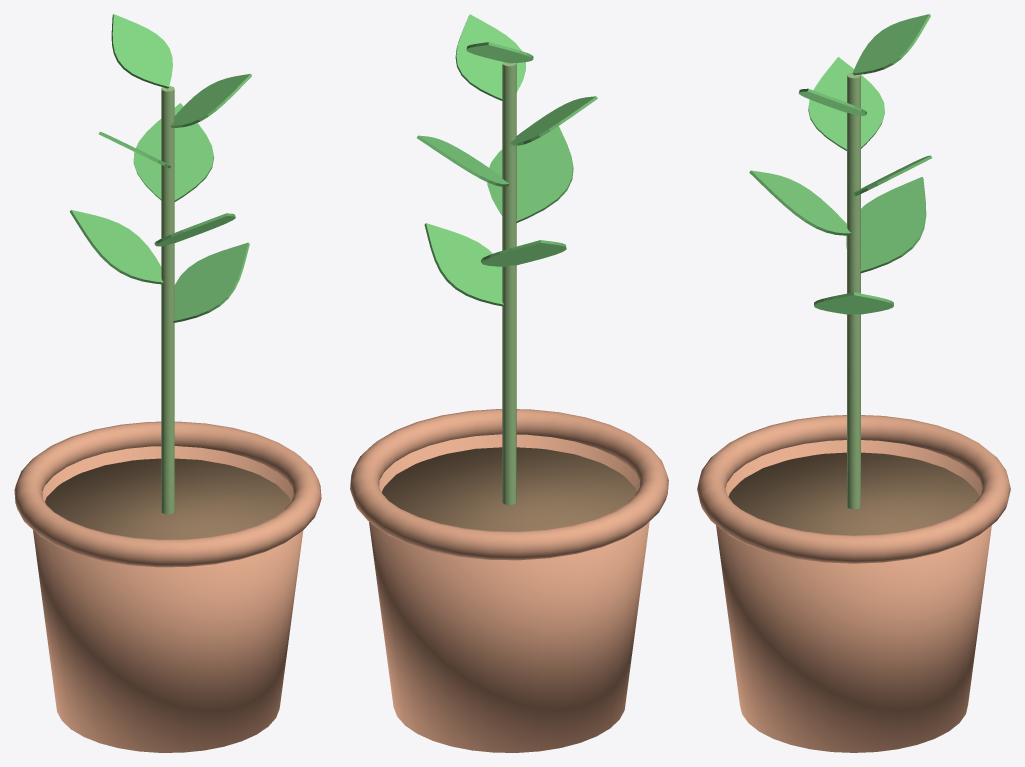
File: plant_healthy.glb
The picture shows the model from 3 angles, left to right: view 1: azimuth 30°, elevation 25°; view 2: azimuth 150°, elevation 25°; view 3: azimuth 270°, elevation 25°; orthographic projection. The views are drawn at different scales.
Visible parts, largest first — view 1: pot_body, pot_rim, soil, plant_stem, plant_leaf3, plant_leaf0, plant_leaf1, plant_leaf6, plant_leaf5, plant_leaf2; view 2: pot_body, pot_rim, soil, plant_stem, plant_leaf2, plant_leaf0, plant_leaf5, plant_leaf1, plant_leaf3, plant_leaf4, plant_leaf6; view 3: pot_body, pot_rim, soil, plant_stem, plant_leaf1, plant_leaf4, plant_leaf2, plant_leaf6, plant_leaf0, plant_leaf5.
Part boxes in pixels (left/top/right/bottom): pot_body: left=33, top=446, right=303, bottom=752; pot_rim: left=14, top=421, right=321, bottom=567; soil: left=45, top=458, right=290, bottom=539; plant_stem: left=161, top=86, right=174, bottom=514; plant_leaf3: left=133, top=103, right=214, bottom=201; plant_leaf0: left=173, top=242, right=249, bottom=322; plant_leaf1: left=70, top=210, right=163, bottom=284; plant_leaf6: left=111, top=14, right=172, bottom=88; plant_leaf5: left=170, top=73, right=251, bottom=127; plant_leaf2: left=154, top=213, right=235, bottom=246; pot_body: left=369, top=434, right=649, bottom=752; pot_rim: left=350, top=409, right=668, bottom=560; soil: left=381, top=447, right=636, bottom=531; plant_stem: left=502, top=62, right=516, bottom=504; plant_leaf2: left=487, top=126, right=573, bottom=223; plant_leaf0: left=424, top=223, right=503, bottom=306; plant_leaf5: left=455, top=14, right=525, bottom=100; plant_leaf1: left=481, top=240, right=566, bottom=266; plant_leaf3: left=417, top=135, right=509, bottom=186; plant_leaf4: left=510, top=96, right=597, bottom=145; plant_leaf6: left=466, top=42, right=533, bottom=63; pot_body: left=716, top=440, right=991, bottom=752; pot_rim: left=697, top=415, right=1010, bottom=563; soil: left=728, top=452, right=979, bottom=535; plant_stem: left=847, top=72, right=860, bottom=509; plant_leaf1: left=846, top=177, right=926, bottom=273; plant_leaf4: left=808, top=57, right=884, bottom=150; plant_leaf2: left=749, top=170, right=851, bottom=235; plant_leaf6: left=852, top=14, right=930, bottom=75; plant_leaf0: left=814, top=292, right=893, bottom=314; plant_leaf5: left=798, top=88, right=866, bottom=115.
Bounding box in the file's own units: 0.132 × 0.3165 × 0.132.
